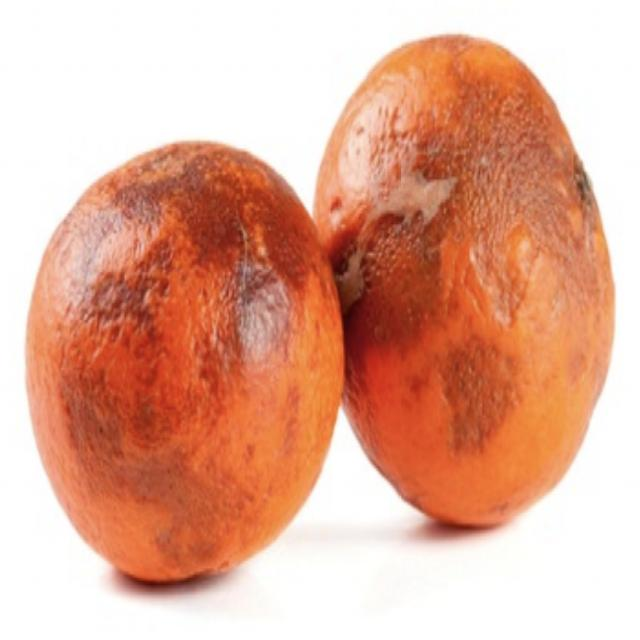rotten-orange: (325, 28, 616, 534), (25, 143, 344, 587)
